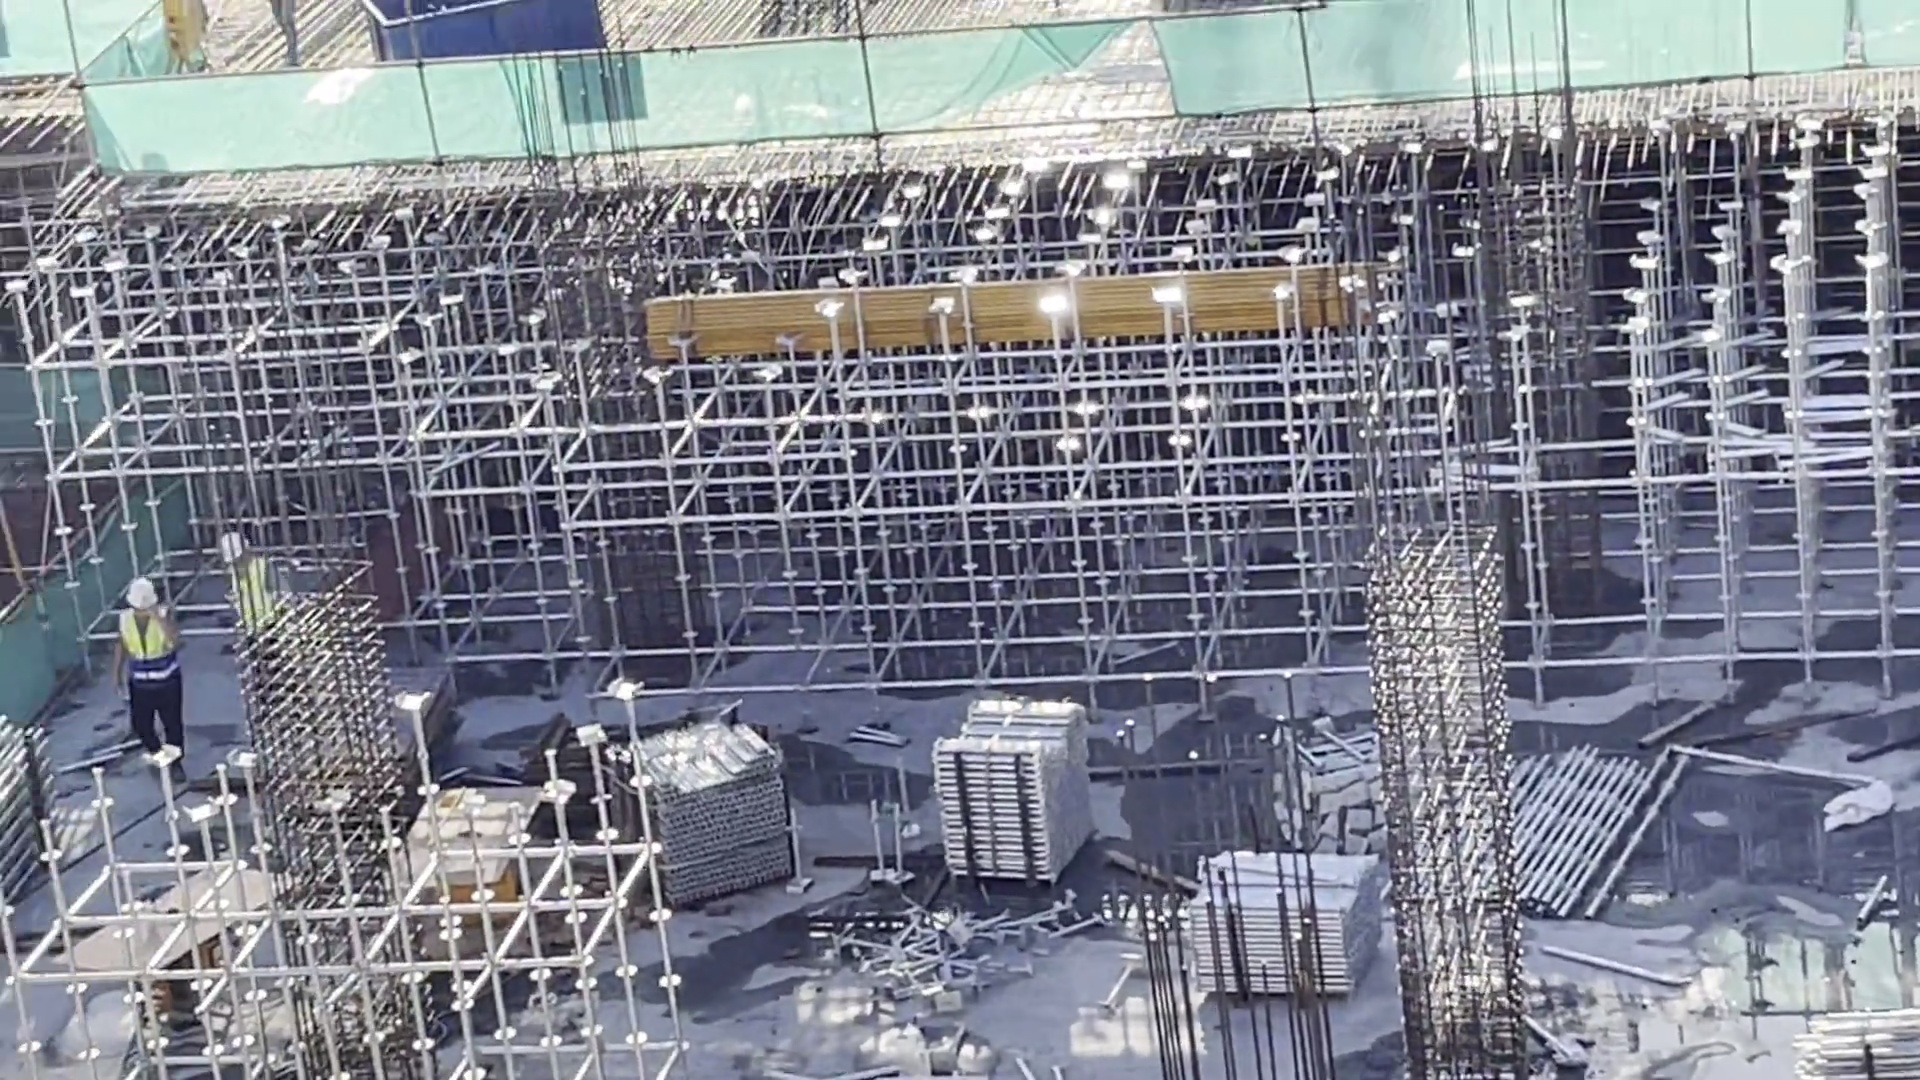helmet: (120, 575, 161, 610)
person: (116, 574, 190, 772), (208, 533, 289, 663)
scaffold: (1487, 734, 1690, 960), (609, 711, 797, 912), (923, 688, 1103, 887), (1187, 842, 1385, 999), (1, 719, 59, 910), (1789, 990, 1920, 1073)
